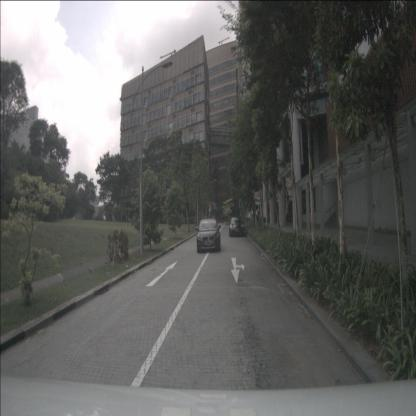vehicle-car: (197, 218, 221, 253), (228, 216, 245, 237)
